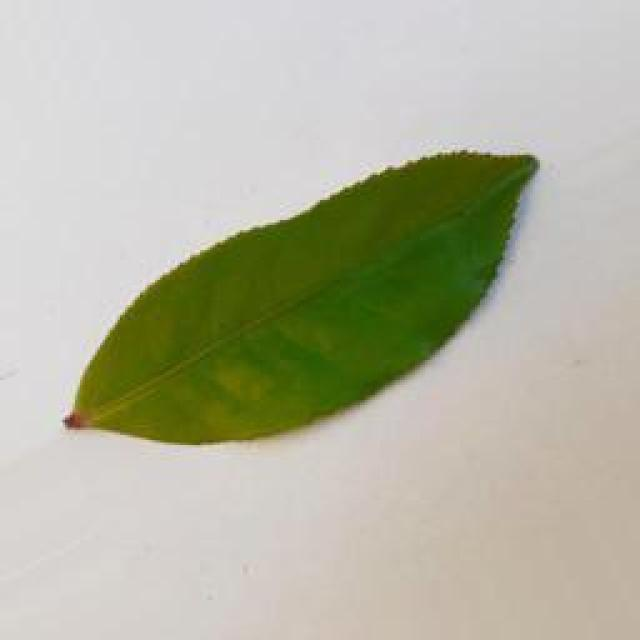Healthy: (56, 145, 548, 452)
